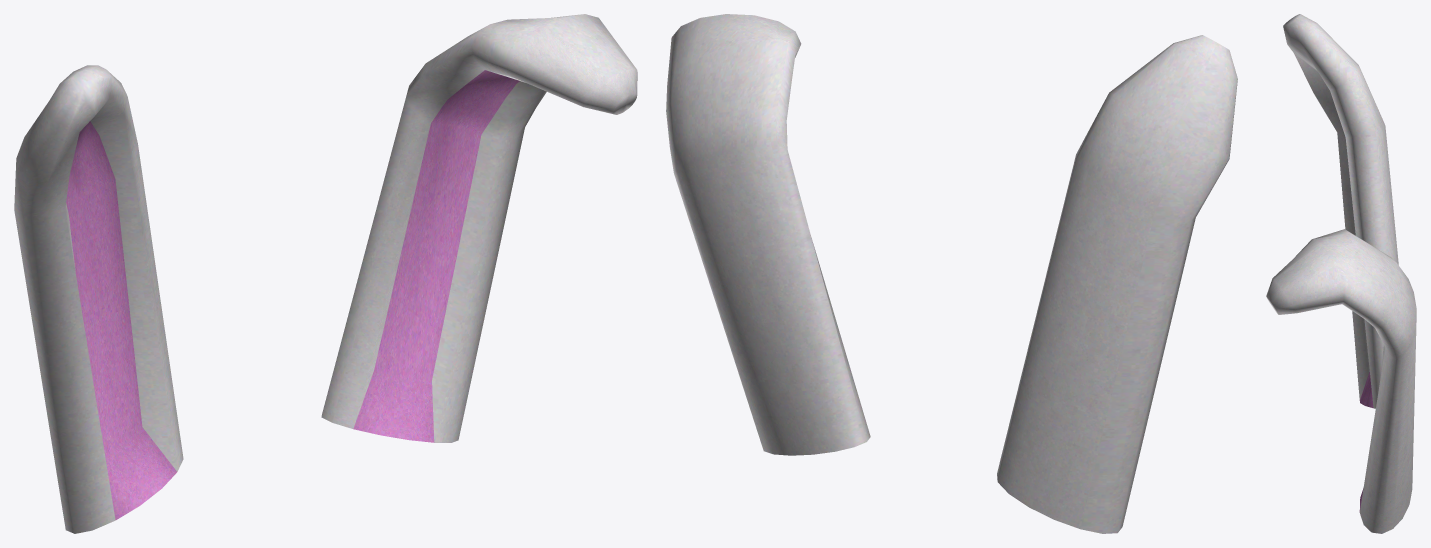
Rendered from hat4.glb.
The picture shows the model from 3 angles, left to right: view 1: azimuth 30°, elevation 25°; view 2: azimuth 150°, elevation 25°; view 3: azimuth 270°, elevation 25°; orthographic projection. The views are drawn at different scales.
Visible parts, largest first — view 1: polySurface1; view 2: polySurface1; view 3: polySurface1.
Boxes of the visible parts, x1,y1,x2,y2 form: polySurface1: (14, 14, 637, 533); polySurface1: (666, 14, 1237, 533); polySurface1: (1266, 14, 1416, 533).
Bounding box in the file's own units: 10.65 × 8.68 × 3.22.
1 material, 1 textured.
